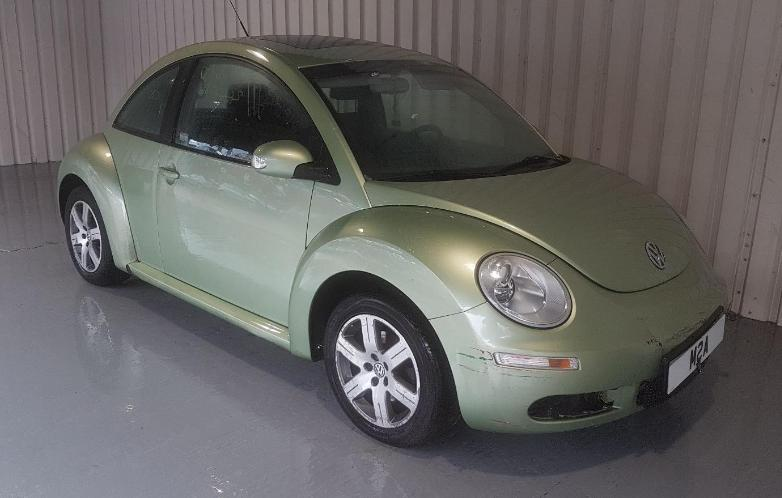Dent: (637, 317, 661, 347)
Missing part: (527, 385, 634, 422)
Paint chip: (667, 319, 704, 342), (126, 263, 141, 279), (647, 338, 658, 345), (698, 311, 706, 315), (657, 342, 662, 347), (662, 349, 664, 355), (704, 319, 706, 321), (636, 372, 637, 375), (701, 318, 703, 319), (634, 375, 636, 376)
Scratch: (457, 347, 493, 361), (501, 373, 553, 378), (458, 365, 485, 373), (492, 419, 519, 426)
